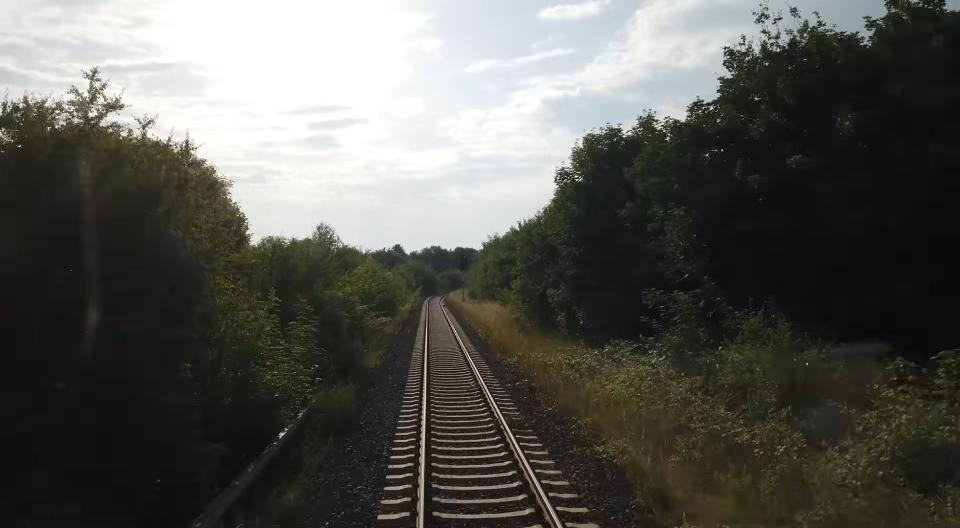Plant: (450, 294, 960, 528)
